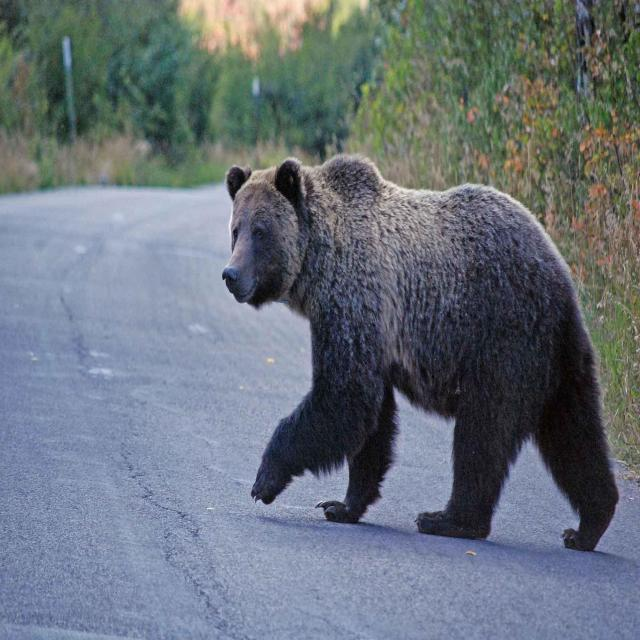Bear: (221, 156, 621, 553)
